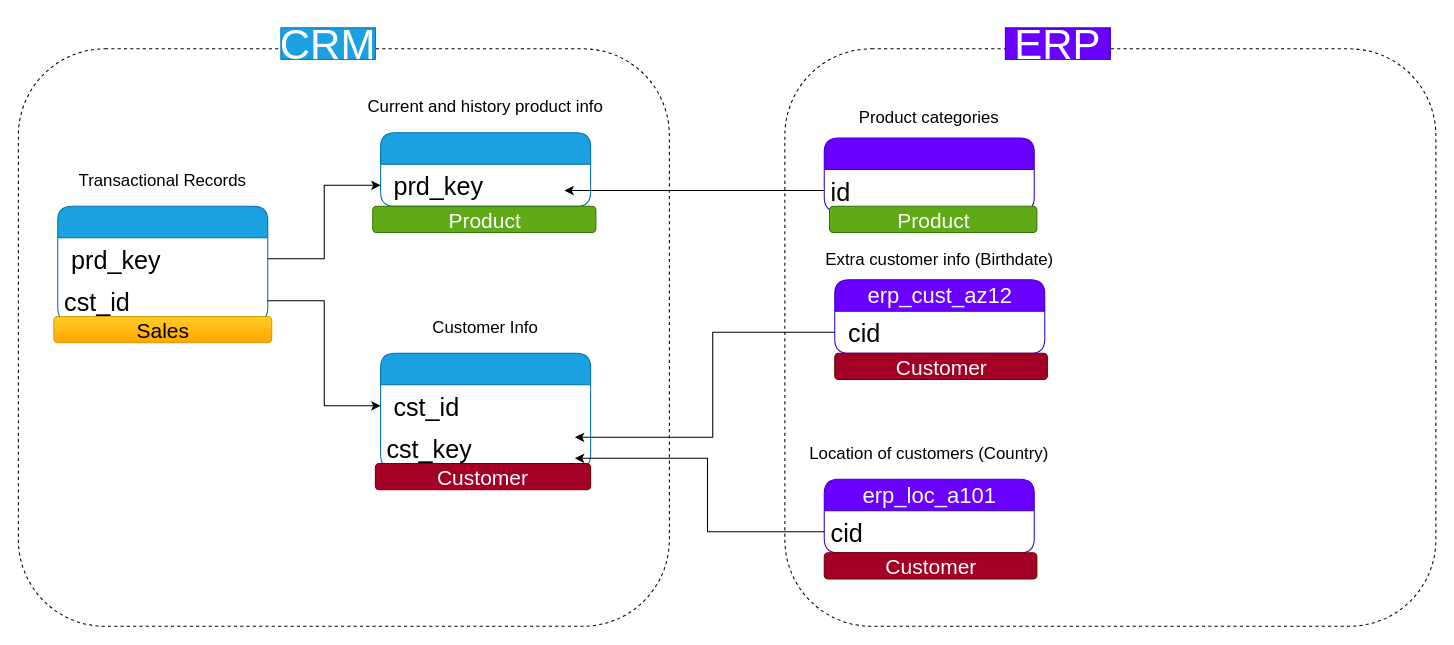
This 1454x645 diagram has some shape labels left out. The box of each missing label's shape, as (x1, y1, x2, y2) in pixels:
crm_cust_info: (380, 352, 591, 469)
crm_prd_info: (380, 132, 591, 206)
crm_sales_details: (57, 205, 268, 322)
erp_px_cat_g1v2: (823, 137, 1034, 212)
